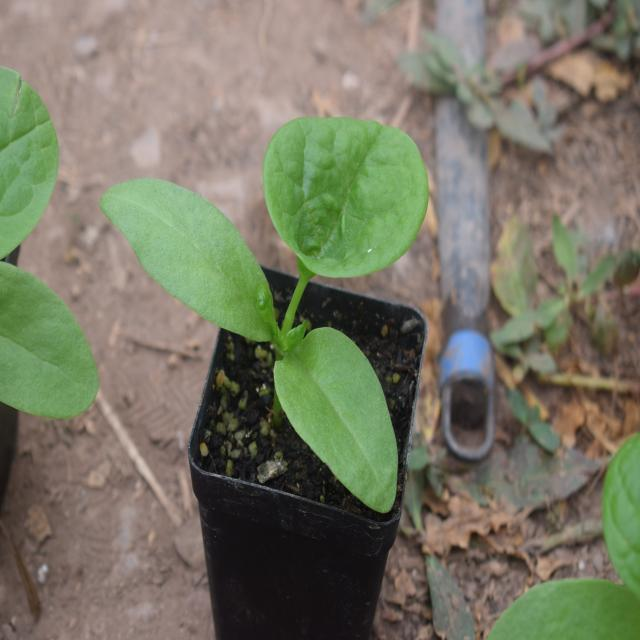Ceylon spinach: (122, 96, 444, 498)
